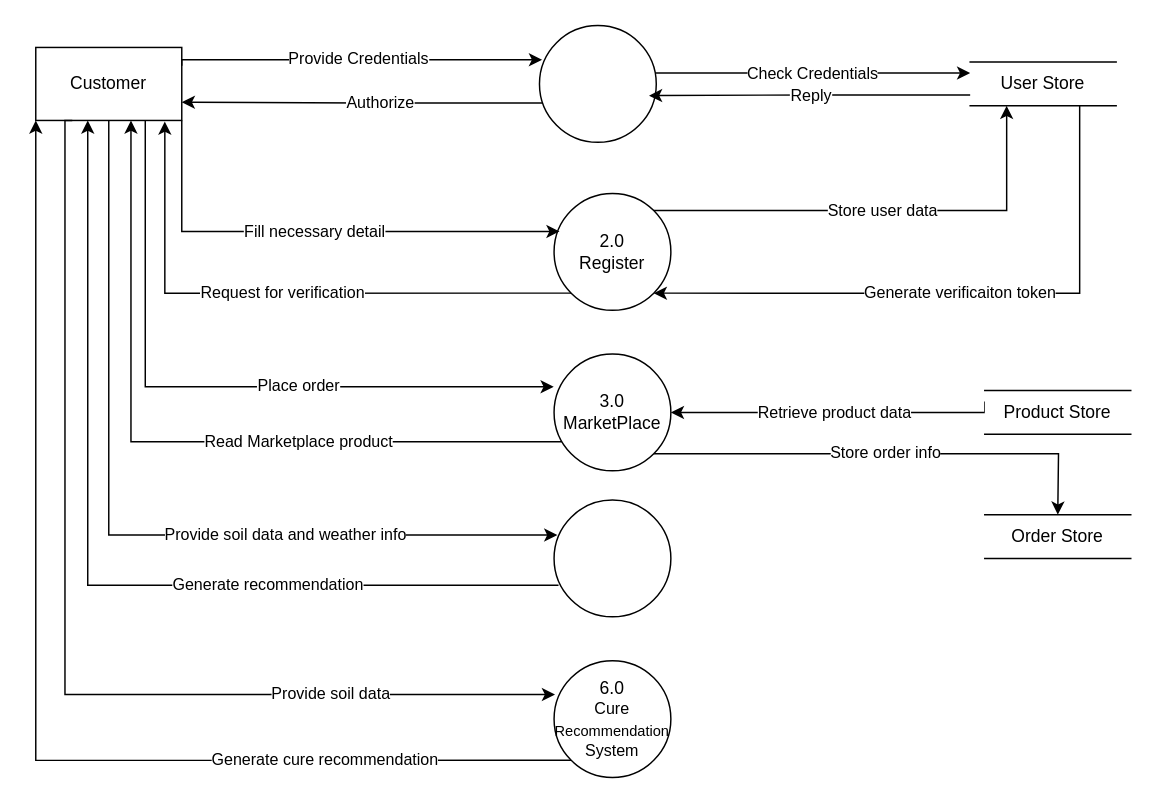
Some shapes in this 1156 by 803 pixel diagram are drawn without their labels. Here are the shapes that lost their labels. From the top down, the centre of each, then its label:
pixel 597 83: 1.0 Login
pixel 612 558: 4.0 Crop Recommendation System
